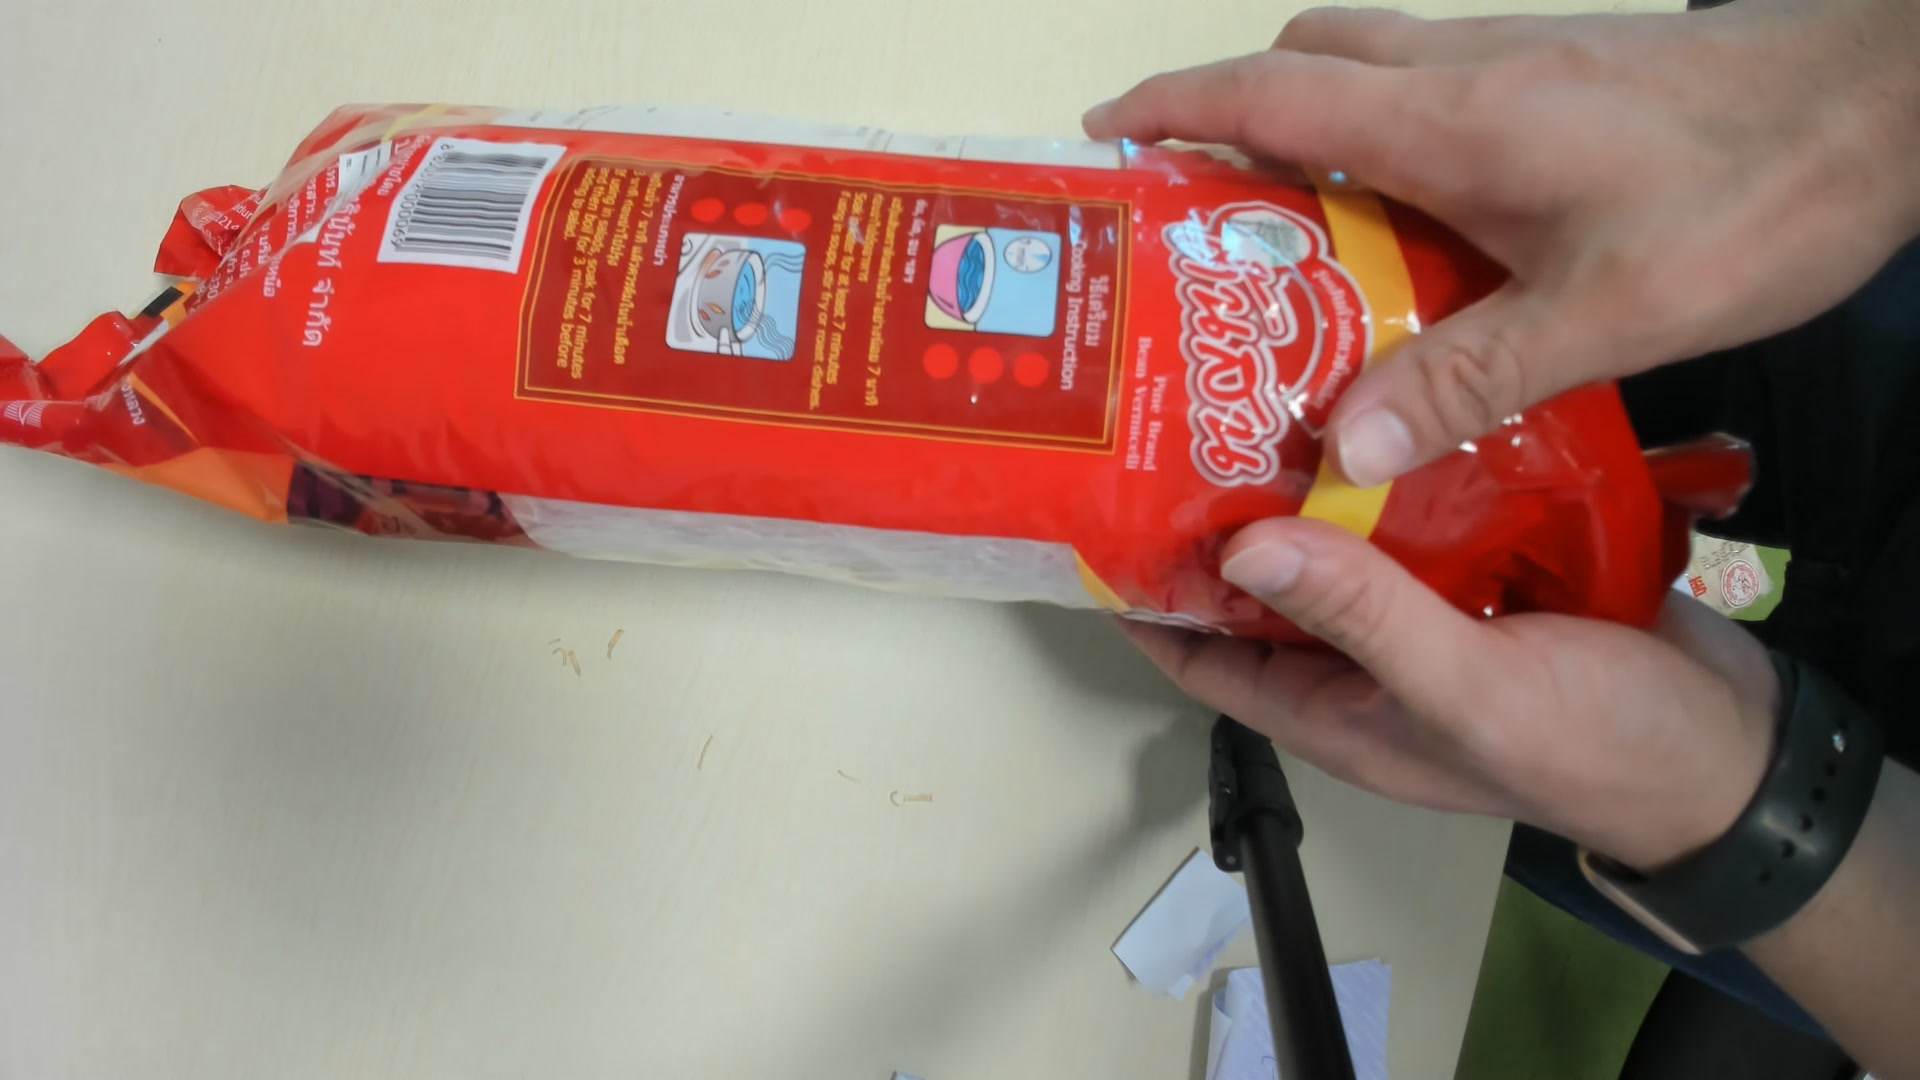BeeHoonVermicelli_500-599g_Halal_NonHealthy: (4, 103, 1677, 646)
